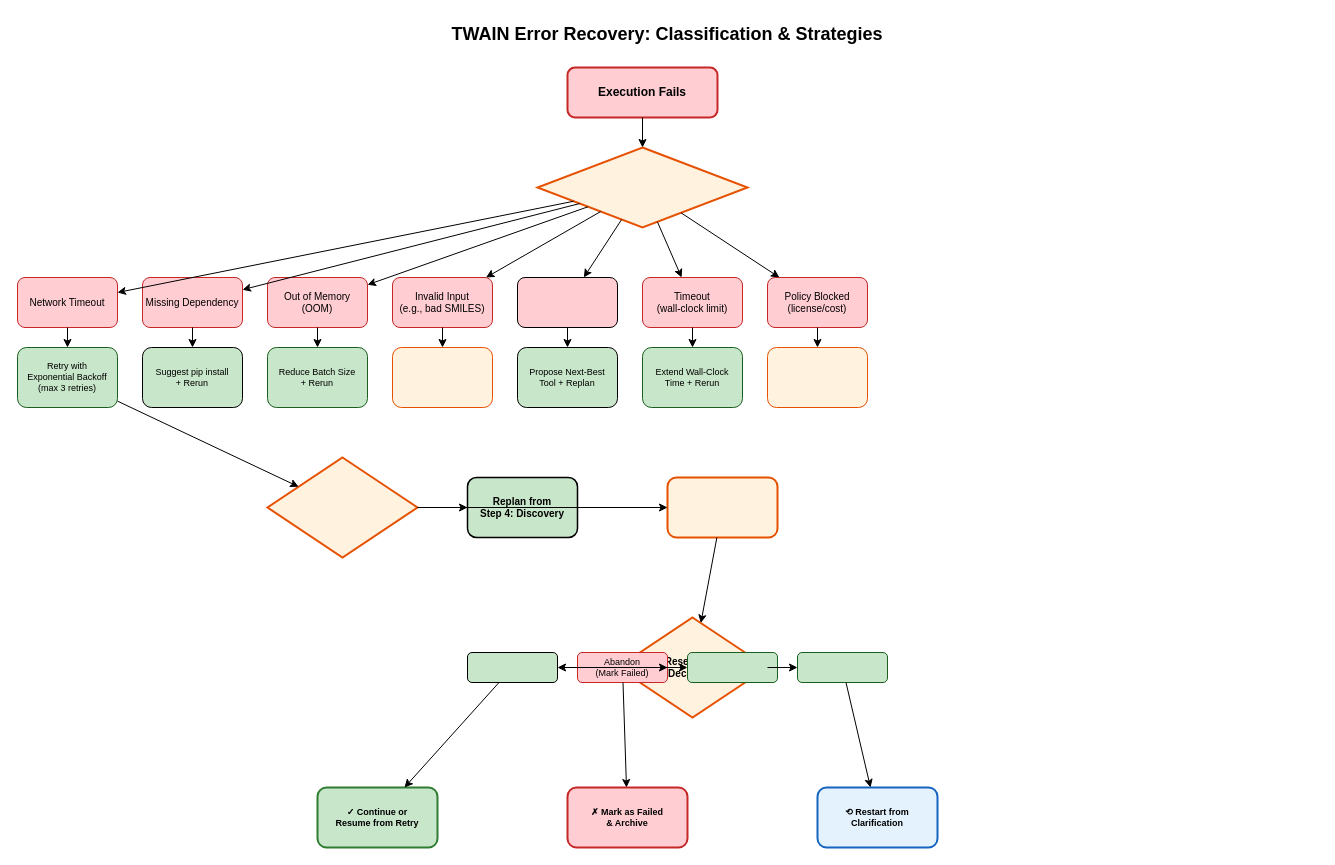
The diagram is 1335 pixels wide and 865 high, and some of its shapes have lost their labels. Each missing label, with the centre of its shape:
"Ask Researcher for Corrected Input" belongs at (442,377).
"Clarify Intent & Replan" belongs at (842,667).
"Classify Error" belongs at (642,187).
"Edit Input & Restart" belongs at (732,667).
"Escalate to Researcher" belongs at (817,377).
"Escalate to Researcher (Approval Gate)" belongs at (722,507).
"Retry (with fixes)" belongs at (512,667).
"Retry Limit Exceeded?" belongs at (342,507).
"Tool Crashed" belongs at (567,302).
